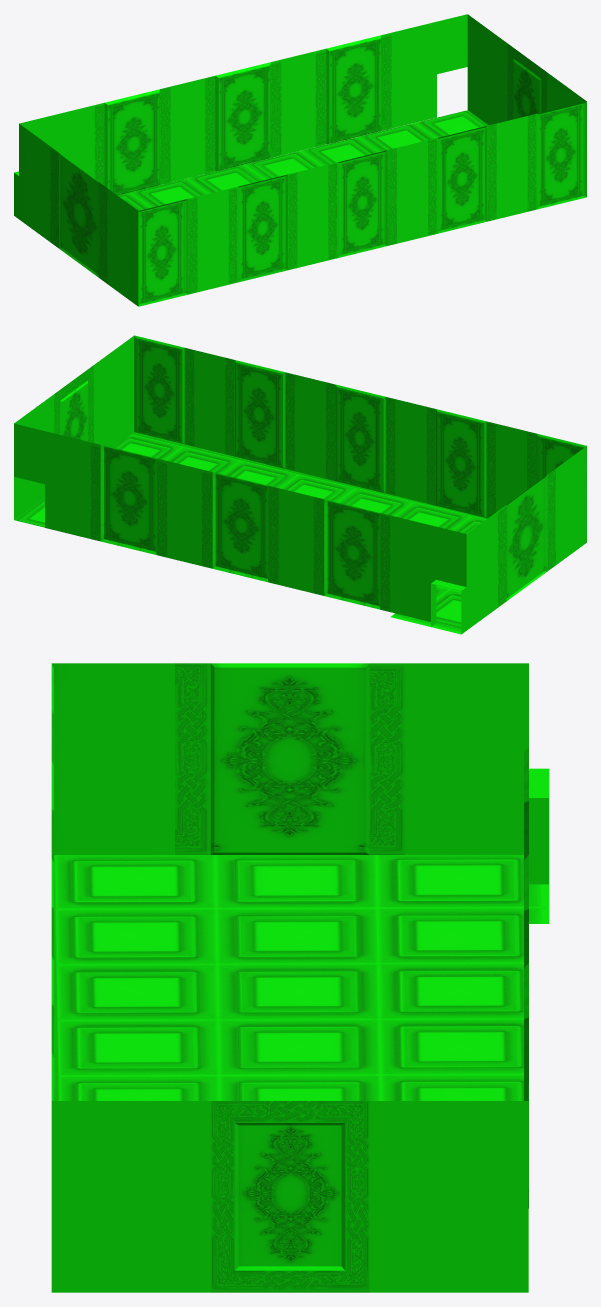
3 views of the same model, one above another, from view 1: azimuth 30°, elevation 25°; view 2: azimuth 150°, elevation 25°; view 3: azimuth 270°, elevation 25° (orthographic). The views are drawn at different scales.
Visible parts, largest first — view 1: 식당 벽, 식당 바닥; view 2: 식당 벽, 식당 바닥; view 3: 식당 벽, 식당 바닥.
Part boxes in pixels (box(x1,y1,x2,y2)): 식당 벽: box(14, 14, 586, 306); 식당 바닥: box(117, 110, 488, 210); 식당 벽: box(14, 335, 586, 634); 식당 바닥: box(14, 432, 487, 634); 식당 벽: box(51, 663, 549, 1292); 식당 바닥: box(54, 855, 549, 1100).
Size of the model in its own units: 969 by 198 by 466.
